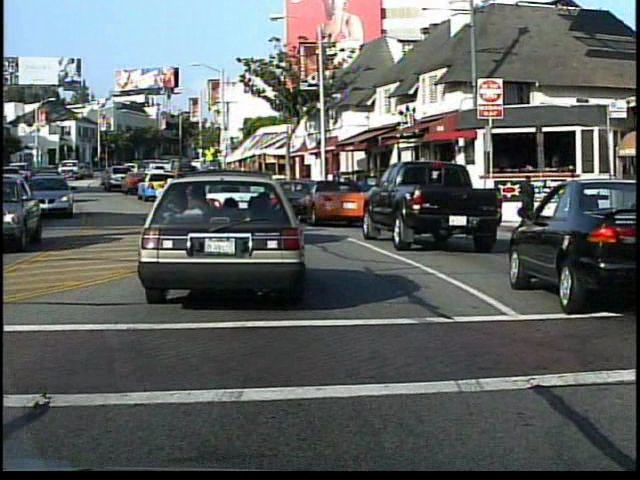person: (517, 170, 539, 232)
